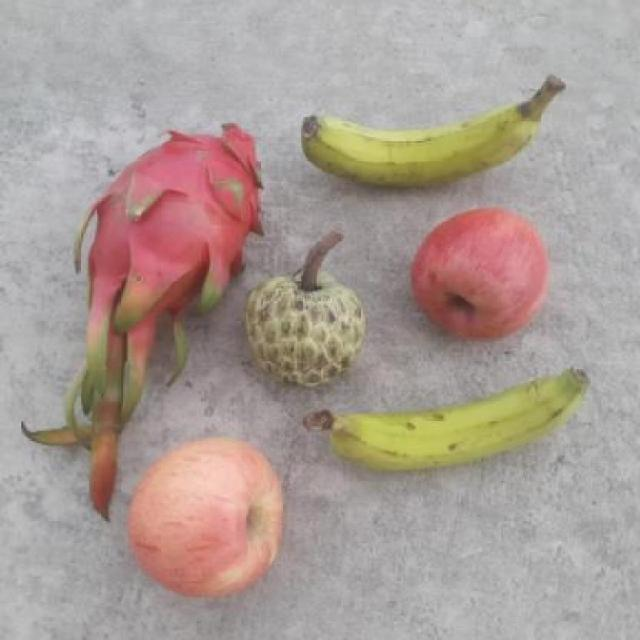apple: (125, 436, 288, 602), (410, 204, 556, 350)
banana: (300, 72, 572, 194), (329, 370, 603, 468)
dragon fruit: (78, 122, 265, 313)
sugar apple: (242, 266, 366, 392)
